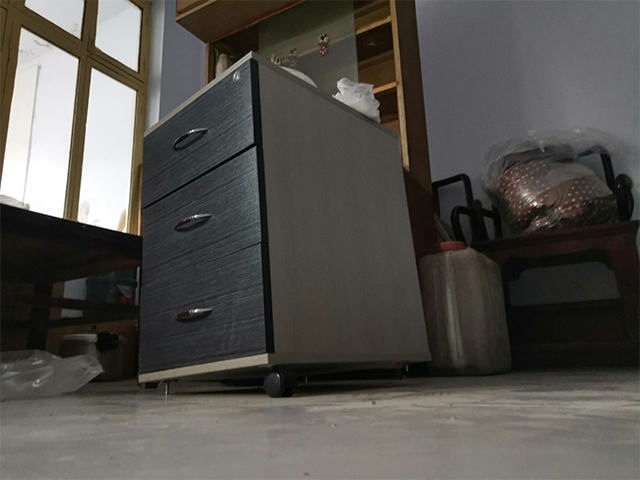cabinet: (136, 49, 435, 401)
stool: (448, 142, 640, 367)
table: (1, 202, 148, 386)
